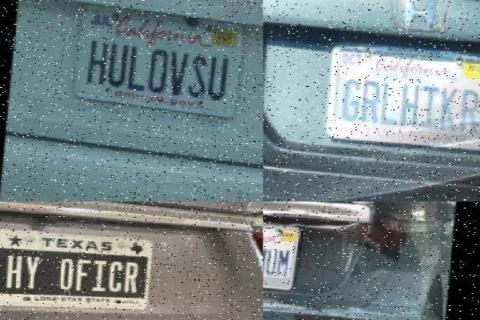LicensePlate: (72, 4, 248, 122), (322, 40, 480, 152), (0, 226, 152, 305), (263, 218, 313, 288)
